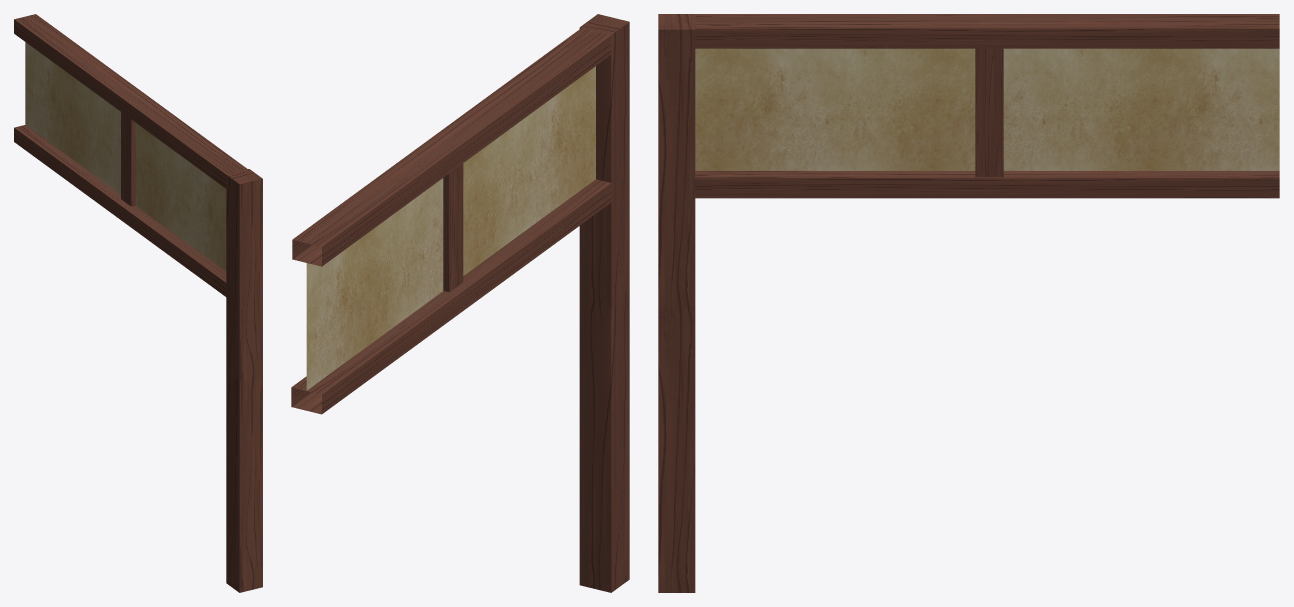
Rendered from SM_SeparatorL.fbx.
3 views of the same model, side by side, from view 1: azimuth 30°, elevation 25°; view 2: azimuth 150°, elevation 25°; view 3: azimuth 270°, elevation 25° (orthographic). The views are drawn at different scales.
Visible parts, largest first — view 1: SM_SeparatorL; view 2: SM_SeparatorL; view 3: SM_SeparatorL.
Part boxes in pixels (<box>): SM_SeparatorL: <box>14,14,262,592</box>; SM_SeparatorL: <box>291,14,629,592</box>; SM_SeparatorL: <box>658,14,1279,592</box>.
Bounding box in the file's own units: 1786 × 30000 × 30000.
